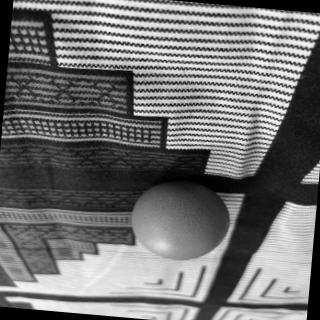Telur: (127, 178, 234, 267)
